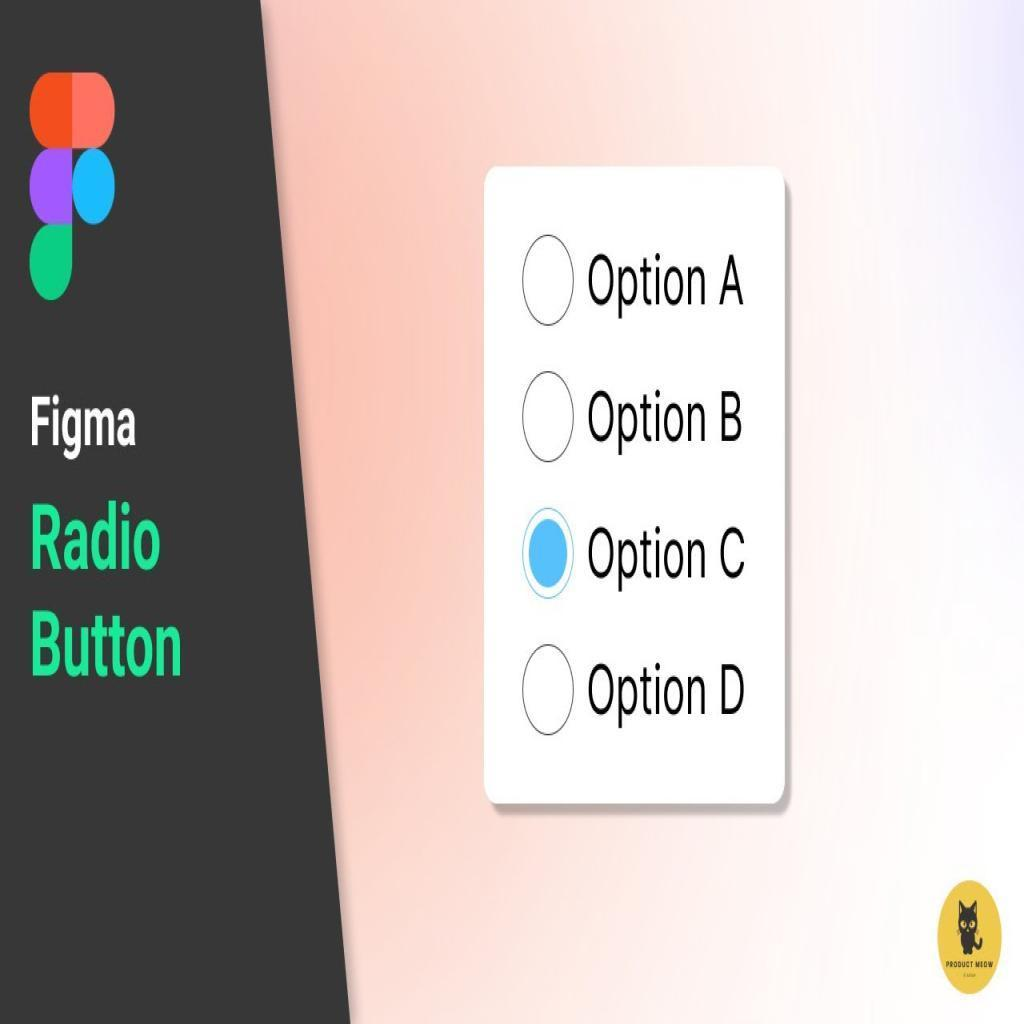radio: (517, 364, 583, 475), (516, 229, 581, 335), (521, 643, 582, 747), (519, 510, 580, 602)
